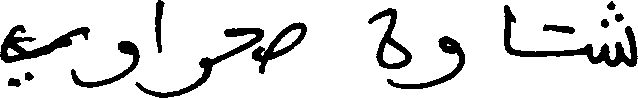ا: (499, 2, 511, 54), (153, 0, 163, 59)
ب: (541, 19, 593, 58)
ة: (369, 6, 413, 72)
ح: (223, 25, 263, 74)
ر: (162, 48, 212, 96)
ش: (596, 0, 636, 68)
ص: (265, 19, 307, 64)
و: (86, 25, 138, 89), (411, 33, 466, 89)
ي: (0, 23, 88, 88)
